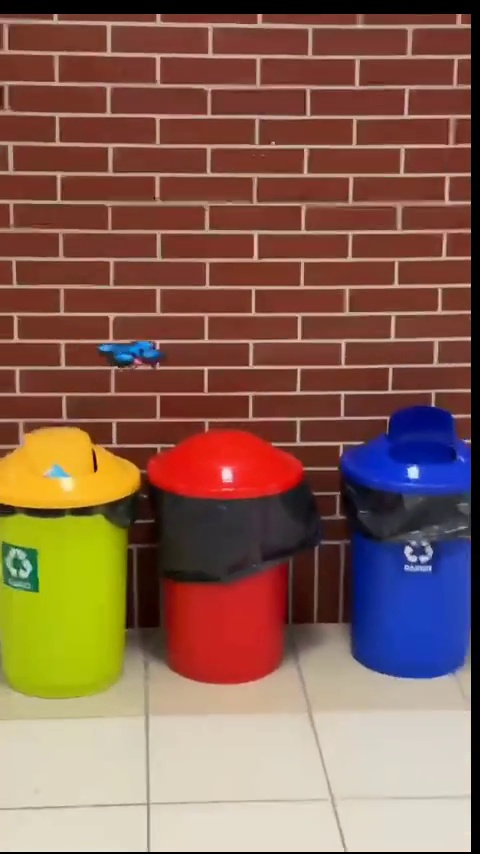drone: (98, 338, 168, 373)
